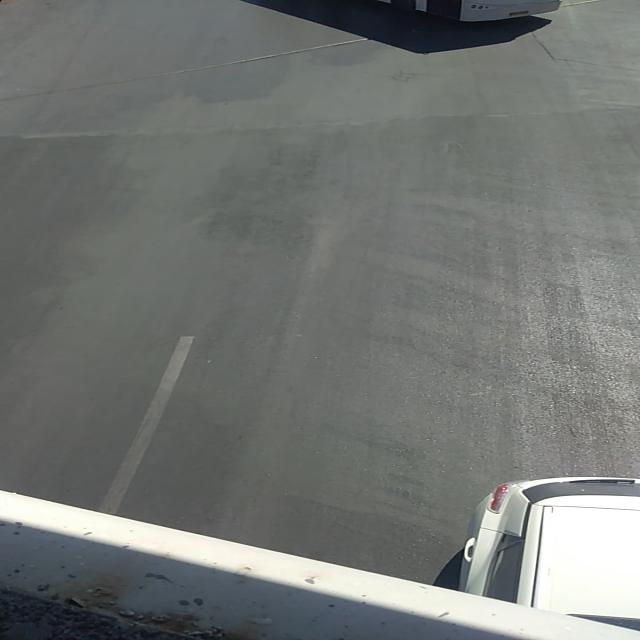car: (460, 475, 639, 618)
